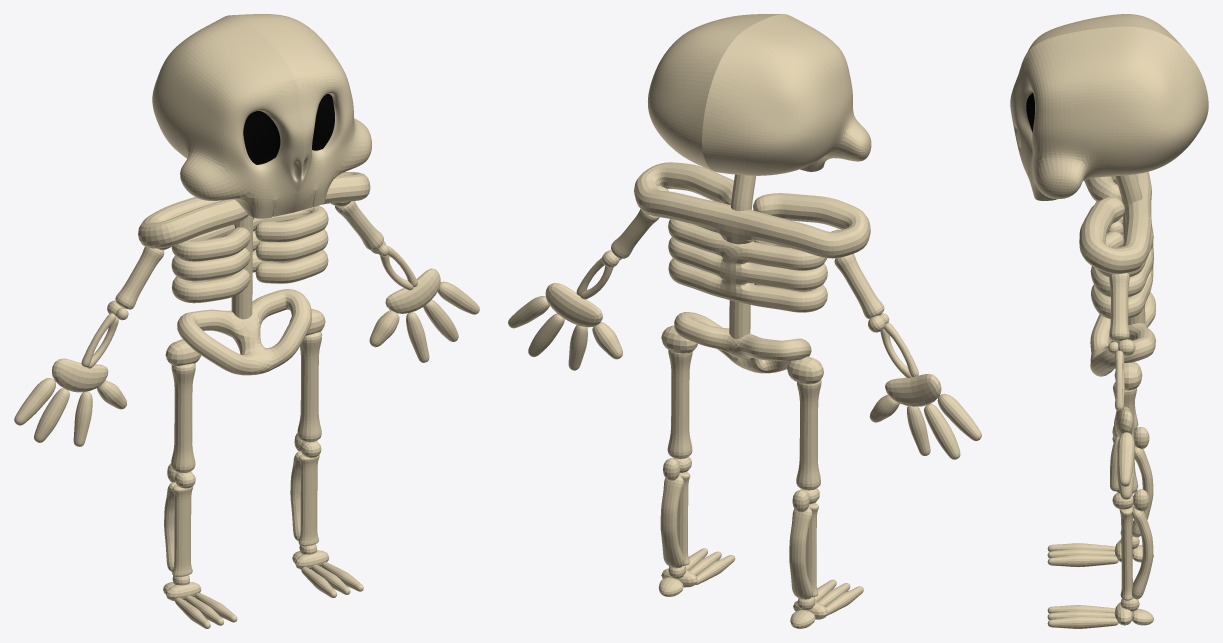
File: EsqueloMorto.fbx
3 renders of one model, left to right at view 1: azimuth 30°, elevation 25°; view 2: azimuth 150°, elevation 25°; view 3: azimuth 270°, elevation 25°, orthographic.
Visible parts, largest first — view 1: Body, Body.001; view 2: Body, Body.001; view 3: Body.001, Body.
Part boxes in pixels (x1=…): Body: x1=14, y1=172, x2=479, y2=628; Body.001: x1=152, y1=14, x2=371, y2=218; Body: x1=508, y1=162, x2=981, y2=628; Body.001: x1=647, y1=14, x2=871, y2=175; Body.001: x1=1010, y1=14, x2=1208, y2=200; Body: x1=1047, y1=171, x2=1155, y2=628.
Bounding box in the file's own units: 925 × 1074 × 342.
